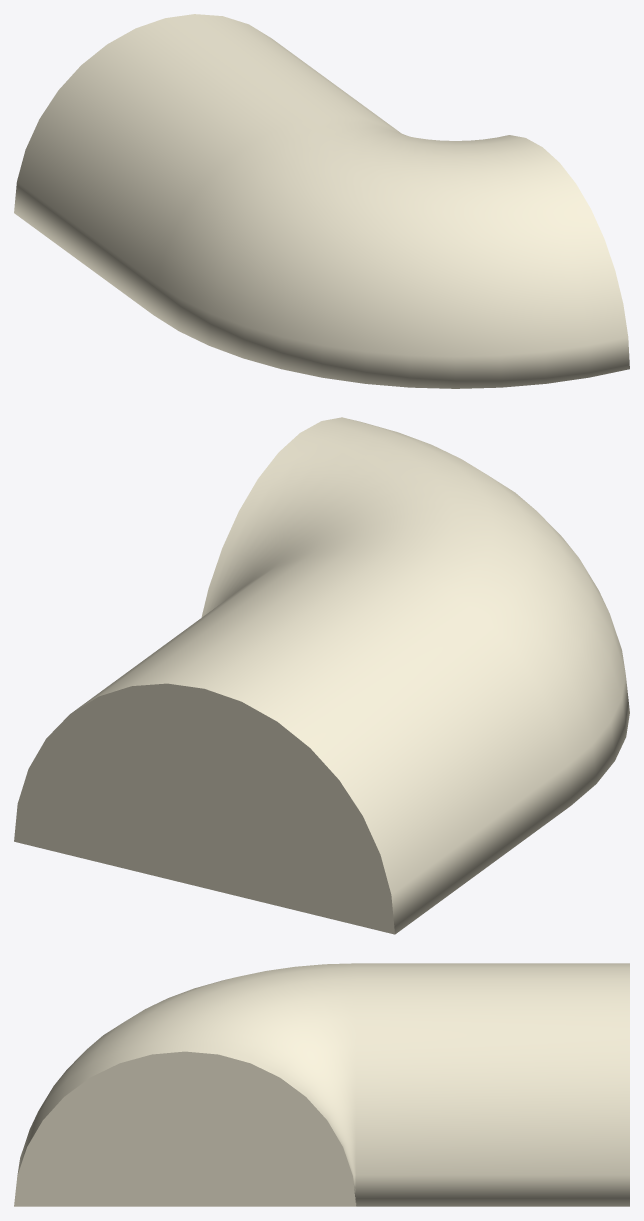
The model's file is AFJ_Gate_Corner_Frame_Left.fbx.
3 renders of one model, top to bottom at view 1: azimuth 30°, elevation 25°; view 2: azimuth 150°, elevation 25°; view 3: azimuth 270°, elevation 25°, orthographic. The views are drawn at different scales.
Visible parts, largest first — view 1: Gate_Corner_Frame_Left; view 2: Gate_Corner_Frame_Left; view 3: Gate_Corner_Frame_Left.
Boxes of the visible parts, left/top/right/bottom form: Gate_Corner_Frame_Left: left=14, top=14, right=629, bottom=388; Gate_Corner_Frame_Left: left=14, top=417, right=629, bottom=934; Gate_Corner_Frame_Left: left=14, top=963, right=629, bottom=1206.
Bounding box in the file's own units: 50 × 25 × 90.
